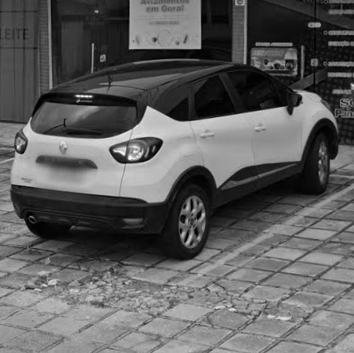car: (9, 50, 340, 260)
